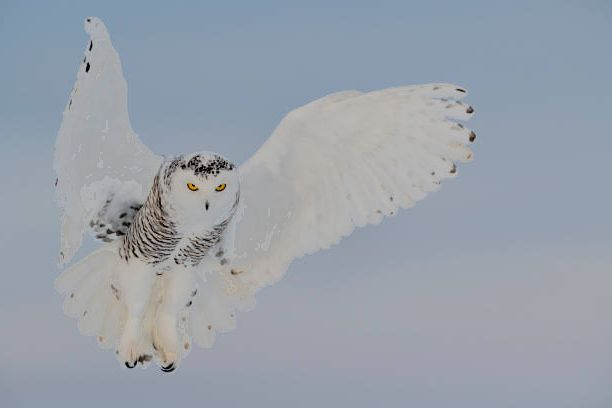Bird: (54, 8, 480, 383)
